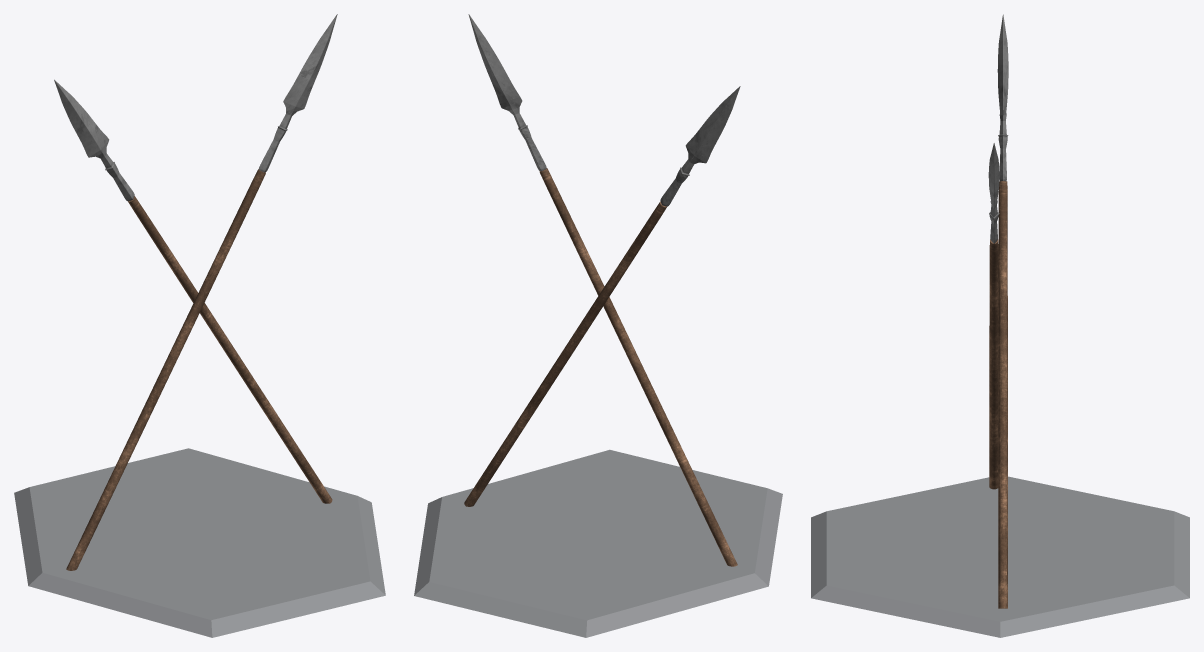
The model's file is Duel Melee (Spears).fbx.
3 views of the same model, side by side, from view 1: azimuth 30°, elevation 25°; view 2: azimuth 150°, elevation 25°; view 3: azimuth 270°, elevation 25° (orthographic). The views are drawn at different scales.
Parts seen in each view (by area): view 1: Spear.003; view 2: Spear.003; view 3: Spear.003.
Boxes of the visible parts, x1,y1,x2,y2 form: Spear.003: (14, 14, 385, 637); Spear.003: (414, 14, 782, 637); Spear.003: (811, 14, 1189, 637).
Bounding box in the file's own units: 89.95 × 125 × 89.95.
